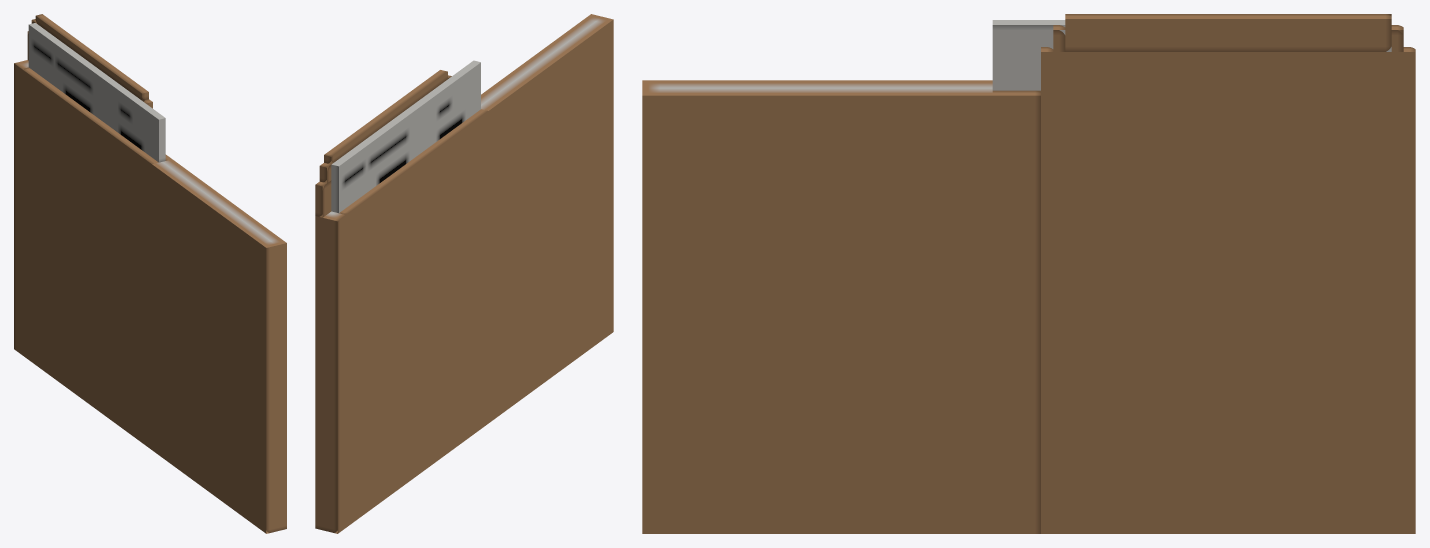
File: Dokumentacja_medyczna.dae
3 renders of one model, left to right at view 1: azimuth 30°, elevation 25°; view 2: azimuth 150°, elevation 25°; view 3: azimuth 270°, elevation 25°, orthographic. The views are drawn at different scales.
Visible parts, largest first — view 1: Dokumentacja_Medyczna; view 2: Dokumentacja_Medyczna; view 3: Dokumentacja_Medyczna.
Boxes of the visible parts, bbox=[...] form: Dokumentacja_Medyczna: bbox=[14, 14, 286, 533]; Dokumentacja_Medyczna: bbox=[315, 14, 613, 533]; Dokumentacja_Medyczna: bbox=[642, 14, 1415, 533].
Size of the model in its own units: 3 by 47 by 64.
1 material, 1 textured.
